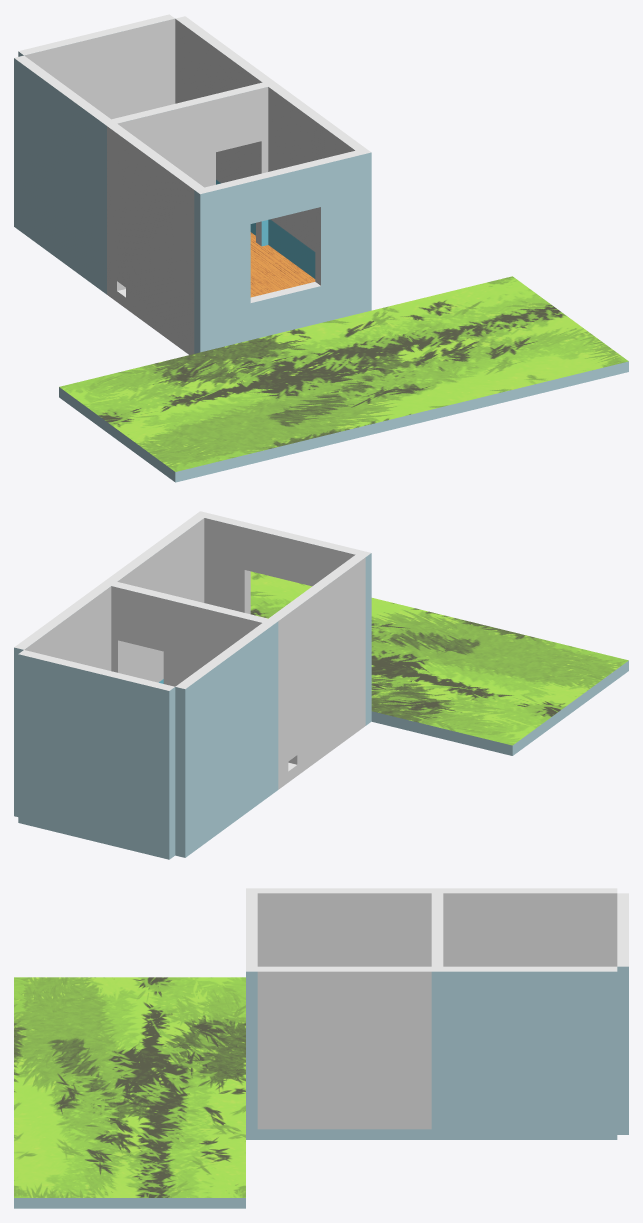
The model's file is RoomEnvironmentV3.fbx.
The picture shows the model from 3 angles, top to bottom: view 1: azimuth 30°, elevation 25°; view 2: azimuth 150°, elevation 25°; view 3: azimuth 270°, elevation 25°; orthographic projection.
Visible parts, largest first — view 1: Room; view 2: Room; view 3: Room.
Boxes of the visible parts, x1=… form: Room: x1=14, y1=14, x2=628, y2=482; Room: x1=14, y1=511, x2=628, y2=859; Room: x1=14, y1=888, x2=628, y2=1208.
Bounding box in the file's own units: 900 × 320 × 1060.
3 materials, 3 textured.
